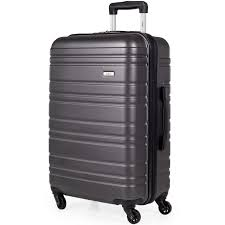suitcase: (46, 1, 174, 223)
